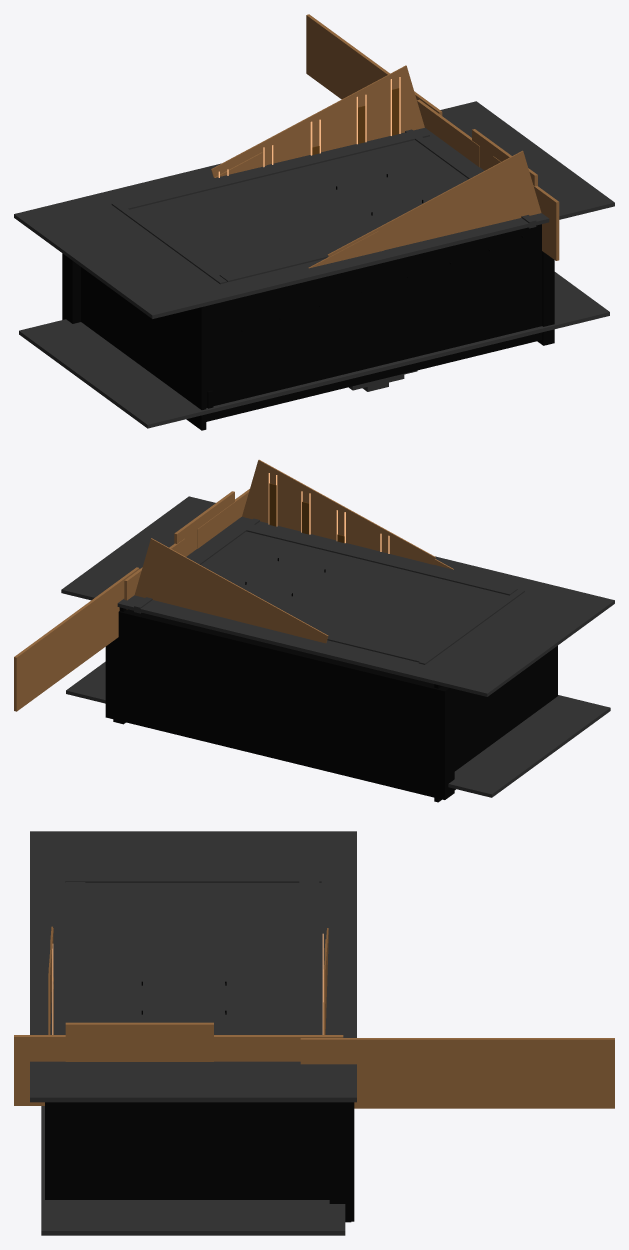
File: deepa.glb
3 views of the same model, one above another, from view 1: azimuth 30°, elevation 25°; view 2: azimuth 150°, elevation 25°; view 3: azimuth 270°, elevation 25° (orthographic). The views are drawn at different scales.
Visible parts, largest first — view 1: Cube.044, Cube.022, Cube.002, Cube.041, Cube.265, Cube.008, Cube.288, Cube.343, Cube.266, Cube.252, Cube.260, Cube.344 (+5 smaller); view 2: Cube.044, Cube.260, Cube.002, Cube.008, Cube.288, Cube.265, Cube.041, Cube.344, Cube.040, Cube.252, Cube.343, Cube.341 (+2 smaller); view 3: Cube.044, Cube.003, Cube.288, Cube.002, Cube.040, Cube.343, Cube.344, Cube.260, Cube.266, Cube.252, Cube.341.
Boxes of the visible parts, x1=… form: Cube.044: x1=14, y1=101, x2=614, y2=318; Cube.022: x1=206, y1=224, x2=542, y2=421; Cube.002: x1=19, y1=272, x2=609, y2=428; Cube.041: x1=81, y1=267, x2=206, y2=430; Cube.265: x1=327, y1=150, x2=541, y2=256; Cube.008: x1=211, y1=65, x2=424, y2=177; Cube.288: x1=306, y1=14, x2=442, y2=115; Cube.343: x1=119, y1=129, x2=429, y2=209; Cube.266: x1=417, y1=99, x2=479, y2=167; Cube.252: x1=493, y1=156, x2=559, y2=260; Cube.260: x1=62, y1=253, x2=80, y2=323; Cube.344: x1=219, y1=243, x2=347, y2=282; Cube.044: x1=61, y1=496, x2=614, y2=696; Cube.260: x1=105, y1=609, x2=454, y2=799; Cube.002: x1=66, y1=661, x2=610, y2=797; Cube.008: x1=134, y1=538, x2=328, y2=643; Cube.288: x1=14, y1=567, x2=139, y2=711; Cube.265: x1=242, y1=459, x2=435, y2=564; Cube.041: x1=434, y1=645, x2=557, y2=802; Cube.344: x1=240, y1=523, x2=517, y2=595; Cube.040: x1=174, y1=491, x2=234, y2=556; Cube.252: x1=197, y1=489, x2=249, y2=548; Cube.343: x1=316, y1=628, x2=431, y2=662; Cube.341: x1=418, y1=589, x2=524, y2=664; Cube.044: x1=30, y1=831, x2=356, y2=1102; Cube.003: x1=45, y1=1102, x2=350, y2=1222; Cube.288: x1=300, y1=1038, x2=614, y2=1108; Cube.002: x1=41, y1=1106, x2=345, y2=1235; Cube.040: x1=65, y1=1022, x2=213, y2=1061; Cube.343: x1=299, y1=878, x2=319, y2=1034; Cube.344: x1=65, y1=882, x2=85, y2=1022; Cube.260: x1=329, y1=1102, x2=354, y2=1221; Cube.266: x1=214, y1=1035, x2=343, y2=1061; Cube.252: x1=14, y1=1035, x2=65, y2=1105; Cube.341: x1=65, y1=877, x2=321, y2=882.
Bounding box in the file's own units: 117 × 48.95 × 111.
